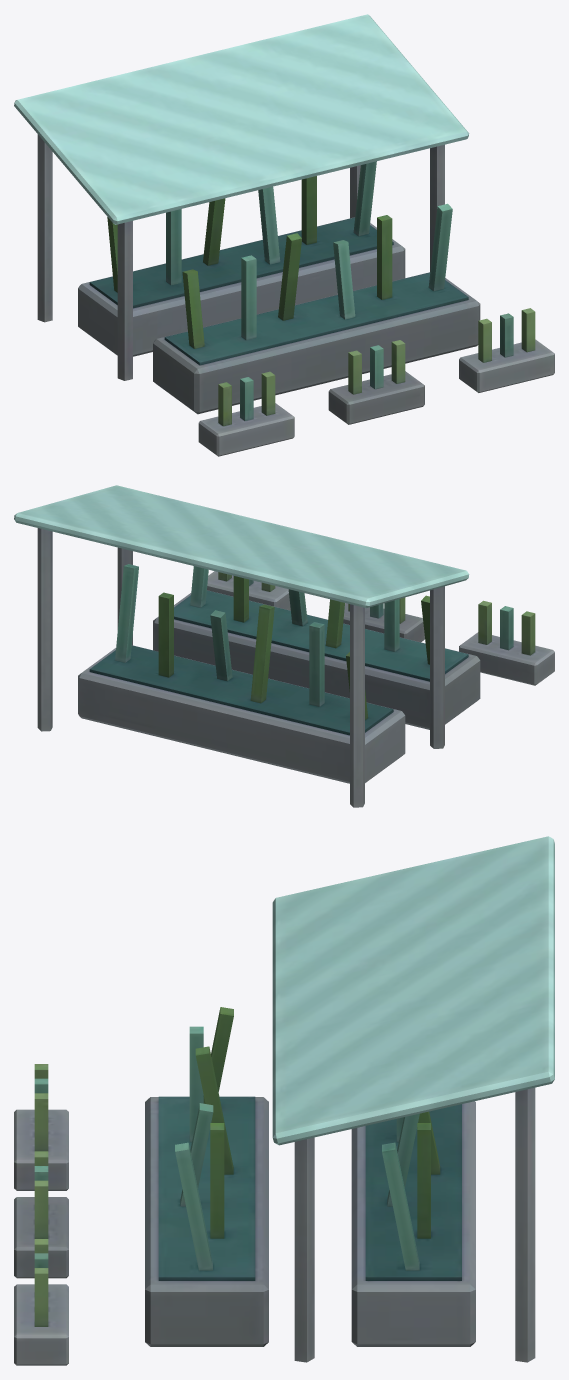
File: greenhouse-2-age20.glb
3 renders of one model, top to bottom at view 1: azimuth 30°, elevation 25°; view 2: azimuth 150°, elevation 25°; view 3: azimuth 270°, elevation 25°, orthographic. The views are drawn at different scales.
Visible parts, largest first — view 1: greenhouse-2-age20; view 2: greenhouse-2-age20; view 3: greenhouse-2-age20.
Part boxes in pixels (<box>): greenhouse-2-age20: <box>14,14,554,456</box>; greenhouse-2-age20: <box>14,485,554,807</box>; greenhouse-2-age20: <box>14,836,554,1365</box>.
Size of the model in its own units: 0.82 by 0.4791 by 0.7847.
Materials: 1 (1 with a texture image).
